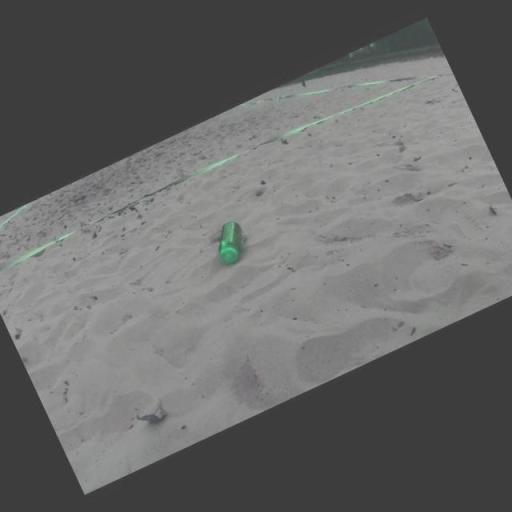bottle: (206, 218, 254, 270)
